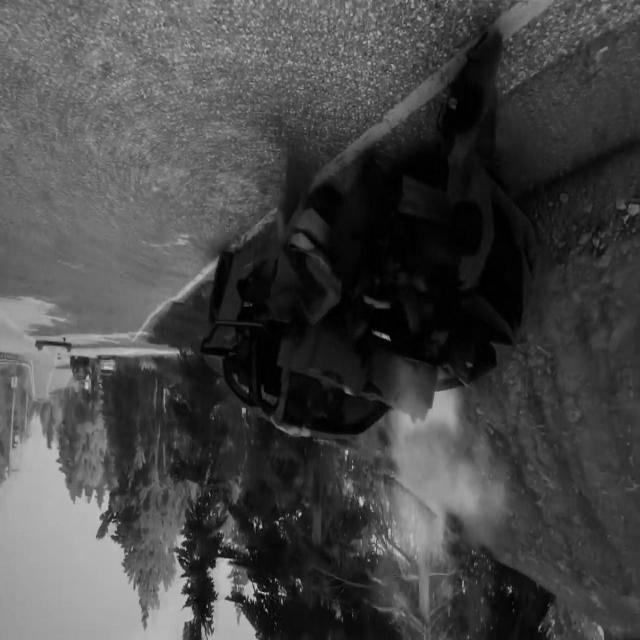severe: (196, 29, 540, 454)
